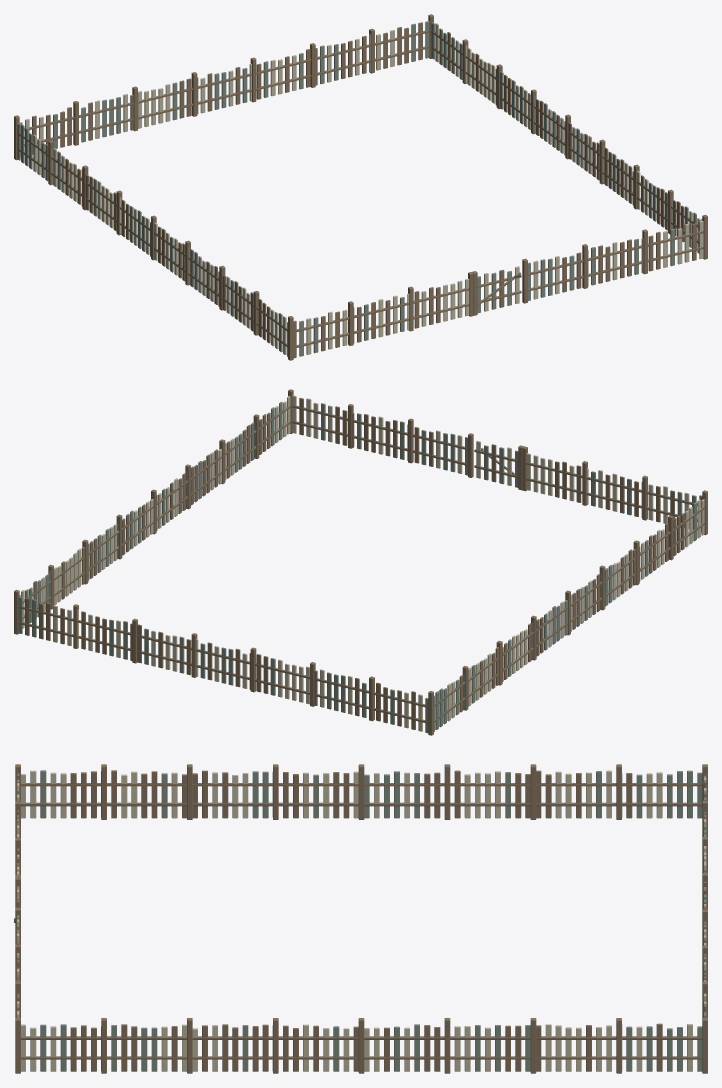
File: SM_ConspiracyHouse_Fence.fbx
The picture shows the model from 3 angles, top to bottom: view 1: azimuth 30°, elevation 25°; view 2: azimuth 150°, elevation 25°; view 3: azimuth 270°, elevation 25°; orthographic projection. The views are drawn at different scales.
Parts seen in each view (by area): view 1: EXPORT_Fence_Rail.005, EXPORT_Fence_Rail.004, EXPORT_Fence_Rail.006, EXPORT_Fence_Rail.007, EXPORT_Fence_Rail.009, EXPORT_Fence_Rail.008; view 2: EXPORT_Fence_Rail.005, EXPORT_Fence_Rail.004, EXPORT_Fence_Rail.006, EXPORT_Fence_Rail.007, EXPORT_Fence_Rail.009, EXPORT_Fence_Rail.008; view 3: EXPORT_Fence_Rail.006, EXPORT_Fence_Rail.008, EXPORT_Fence_Rail.009, EXPORT_Fence_Rail.007.
Boxes of the visible parts, left/top/right/bottom form: EXPORT_Fence_Rail.005: left=20, top=30, right=429, bottom=131; EXPORT_Fence_Rail.004: left=20, top=46, right=429, bottom=147; EXPORT_Fence_Rail.006: left=17, top=147, right=287, bottom=347; EXPORT_Fence_Rail.007: left=17, top=132, right=287, bottom=331; EXPORT_Fence_Rail.009: left=431, top=31, right=699, bottom=228; EXPORT_Fence_Rail.008: left=431, top=46, right=699, bottom=243; EXPORT_Fence_Rail.005: left=18, top=606, right=428, bottom=707; EXPORT_Fence_Rail.004: left=18, top=622, right=428, bottom=723; EXPORT_Fence_Rail.006: left=434, top=522, right=704, bottom=722; EXPORT_Fence_Rail.007: left=434, top=507, right=704, bottom=706; EXPORT_Fence_Rail.009: left=22, top=406, right=290, bottom=603; EXPORT_Fence_Rail.008: left=22, top=421, right=290, bottom=618; EXPORT_Fence_Rail.006: left=21, top=802, right=702, bottom=806; EXPORT_Fence_Rail.008: left=21, top=1056, right=702, bottom=1059; EXPORT_Fence_Rail.009: left=21, top=1036, right=702, bottom=1039; EXPORT_Fence_Rail.007: left=21, top=783, right=702, bottom=786.
Bounding box in the file's own units: 1389 × 1592 × 136.
